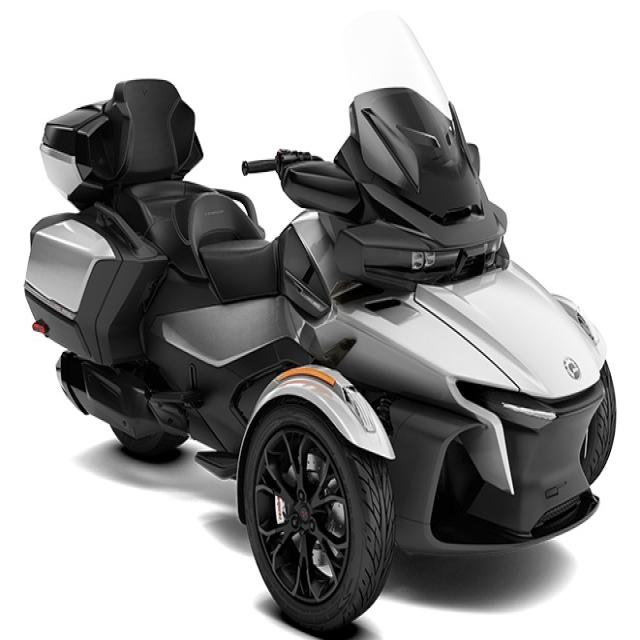Bike: (25, 14, 616, 633)
